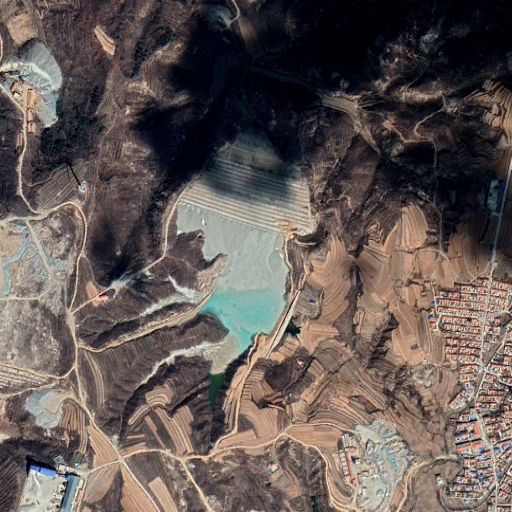tp: (167, 131, 317, 346)
